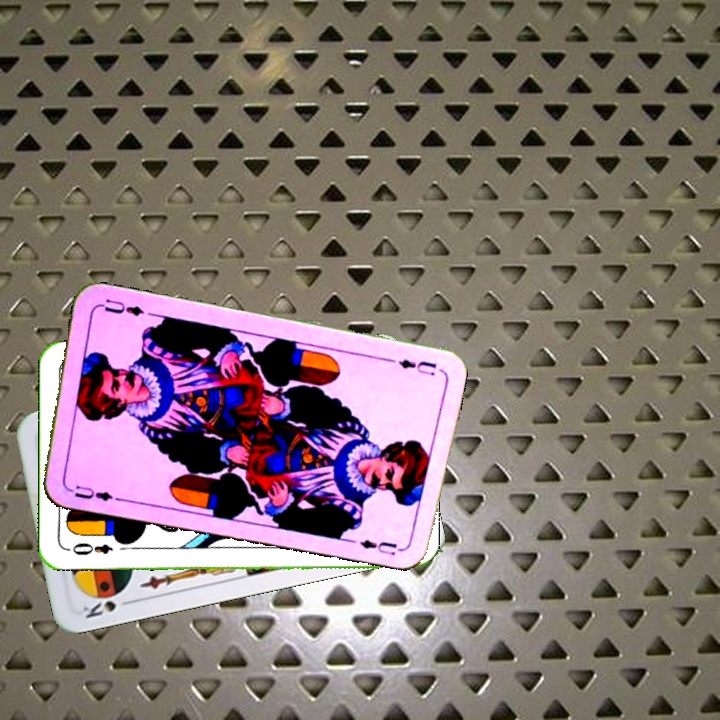EO: (63, 539, 115, 558)
EU: (64, 481, 116, 504), (394, 355, 439, 378)
SK: (79, 596, 136, 621)
